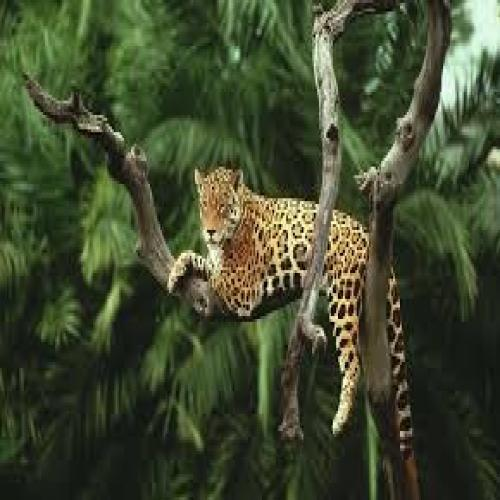jaguar_not-endangered: (189, 170, 410, 445)
